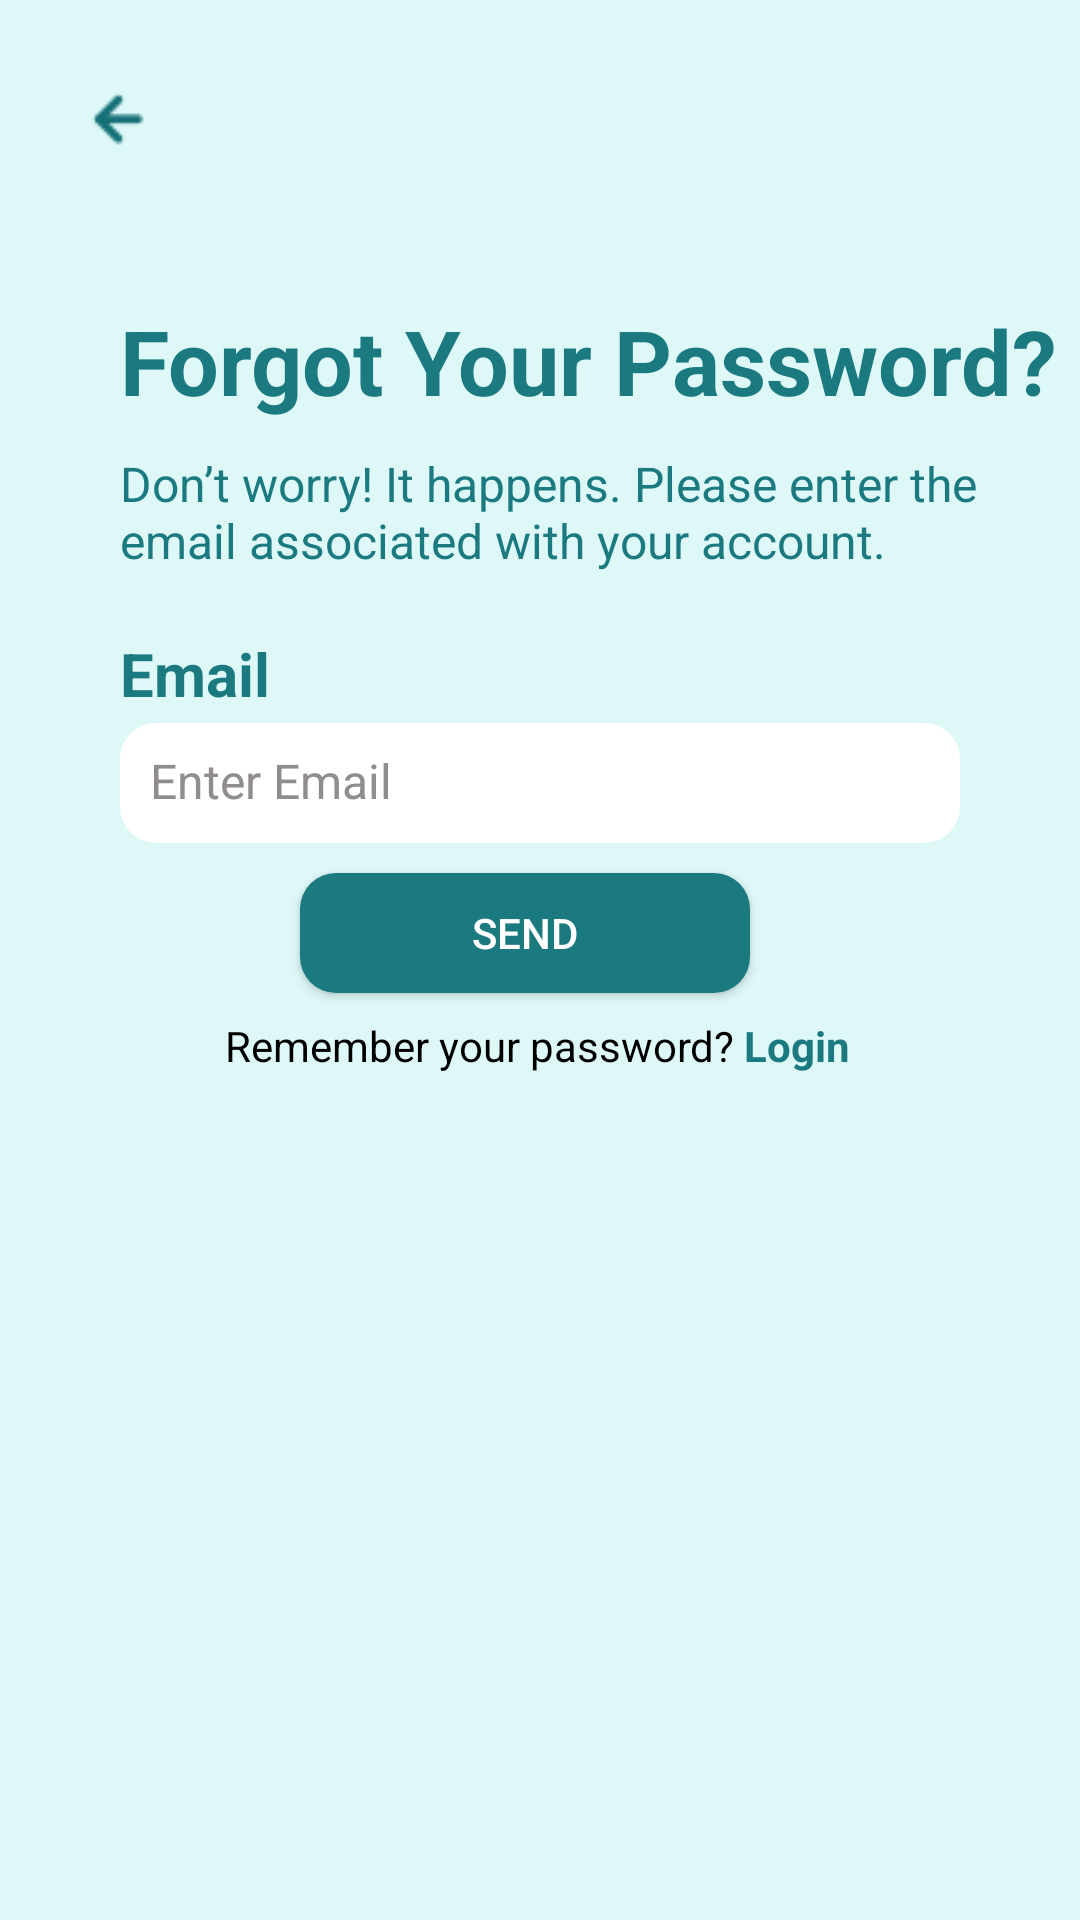

Where icons sit on this 1080 x 1920 app screen, as (x1, y1, x2, y2):
back: (93, 95, 144, 145)
